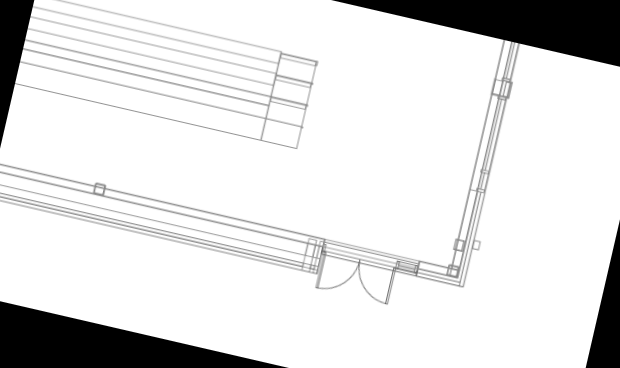double door: (312, 247, 401, 310)
